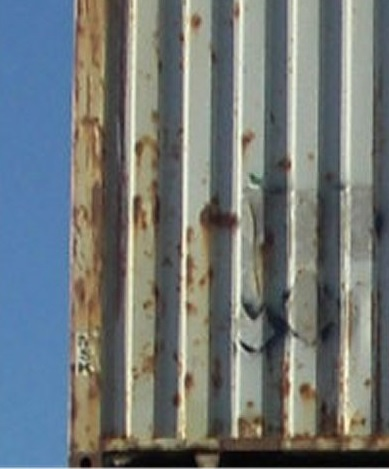container_no_door: (63, 2, 388, 464)
